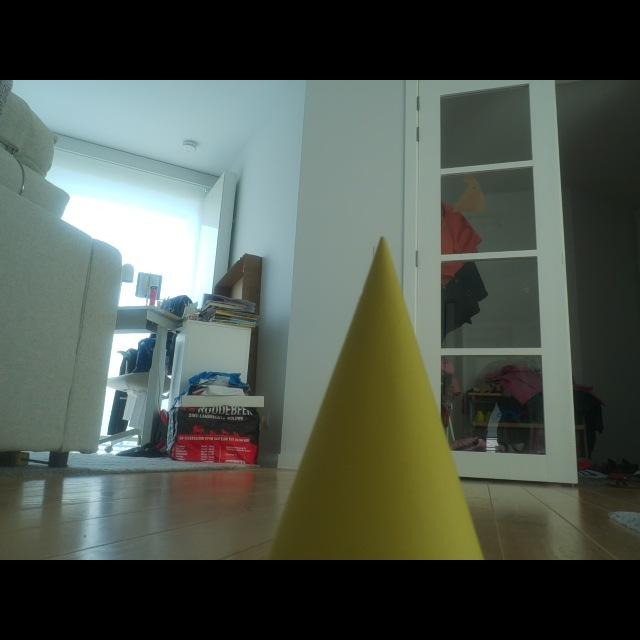bolya: (269, 241, 482, 559)
